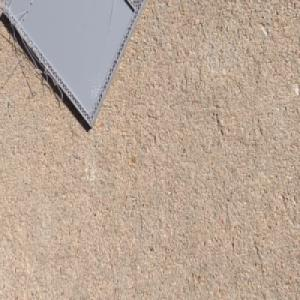PlasticPart: (0, 0, 149, 131)
